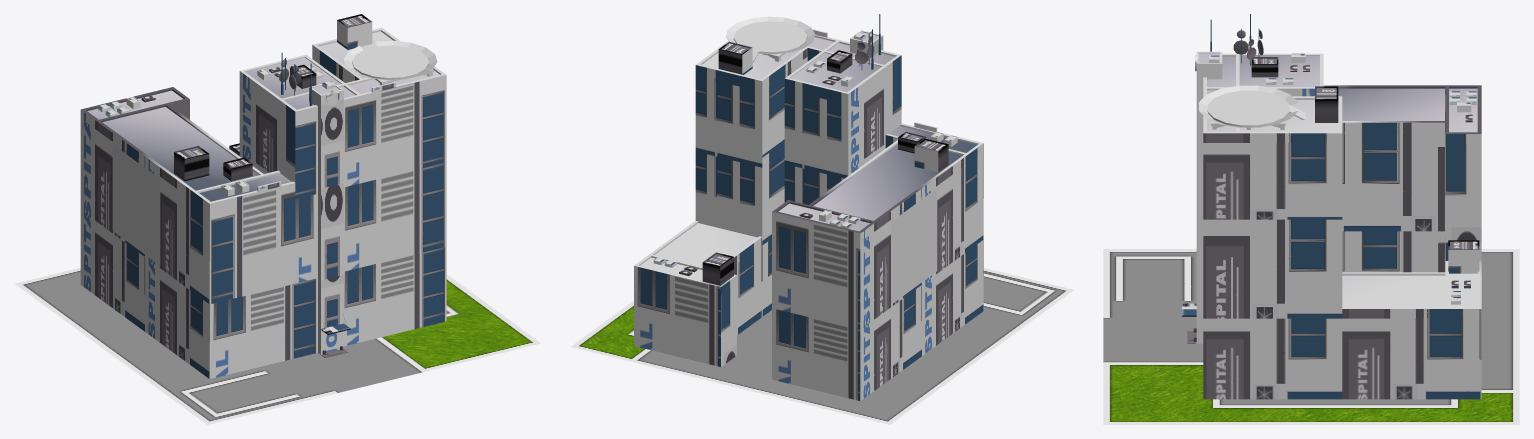
Rendered from Police_Mega.fbx.
3 renders of one model, left to right at view 1: azimuth 30°, elevation 25°; view 2: azimuth 150°, elevation 25°; view 3: azimuth 270°, elevation 25°, orthographic. The views are drawn at different scales.
Visible parts, largest first — view 1: PoliceDept_Mega, PoliceDept_BG_Mega, Graffiti_001, HelicopterPlace, HelicopterPlace_Alpha_DoubleSided; view 2: PoliceDept_Mega, PoliceDept_BG_Mega, Graffiti_001, HelicopterPlace, HelicopterPlace_Alpha_DoubleSided; view 3: PoliceDept_Mega, PoliceDept_BG_Mega, HelicopterPlace, HelicopterPlace_Alpha_DoubleSided.
Boxes of the visible parts, x1=… form: PoliceDept_Mega: x1=80, y1=14, x2=446, y2=378; PoliceDept_BG_Mega: x1=15, y1=267, x2=540, y2=424; Graffiti_001: x1=112, y1=144, x2=160, y2=265; HelicopterPlace: x1=352, y1=45, x2=433, y2=85; HelicopterPlace_Alpha_DoubleSided: x1=343, y1=40, x2=437, y2=80; PoliceDept_Mega: x1=634, y1=14, x2=983, y2=401; PoliceDept_BG_Mega: x1=571, y1=268, x2=1073, y2=424; Graffiti_001: x1=891, y1=188, x2=937, y2=304; HelicopterPlace: x1=733, y1=21, x2=807, y2=63; HelicopterPlace_Alpha_DoubleSided: x1=725, y1=16, x2=815, y2=54; PoliceDept_Mega: x1=1182, y1=14, x2=1481, y2=399; PoliceDept_BG_Mega: x1=1103, y1=249, x2=1519, y2=424; HelicopterPlace: x1=1207, y1=90, x2=1305, y2=129; HelicopterPlace_Alpha_DoubleSided: x1=1198, y1=85, x2=1298, y2=127.
Bounding box in the file's own units: 4000 × 3286 × 4000.
